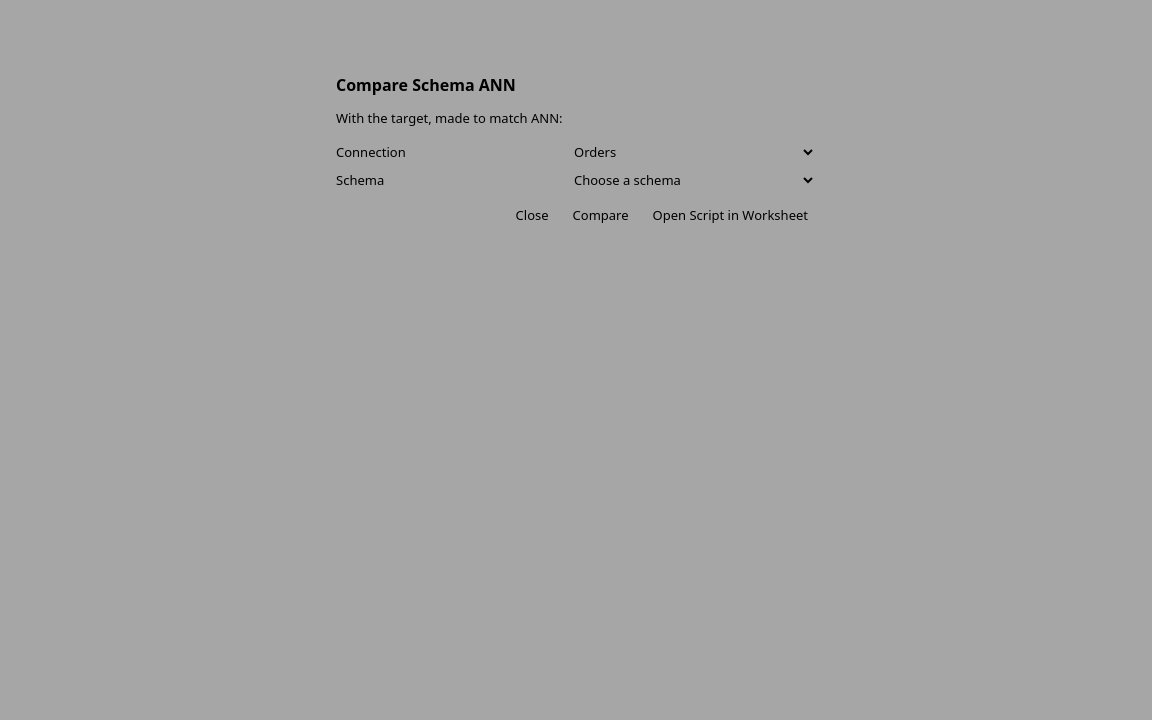
it: two schemas compared › says why two schemas could not be compared [DESIGN] D47
Select "BOB" in the dropdown labelled "Schema" at (690, 180), box [564,168,816,192]
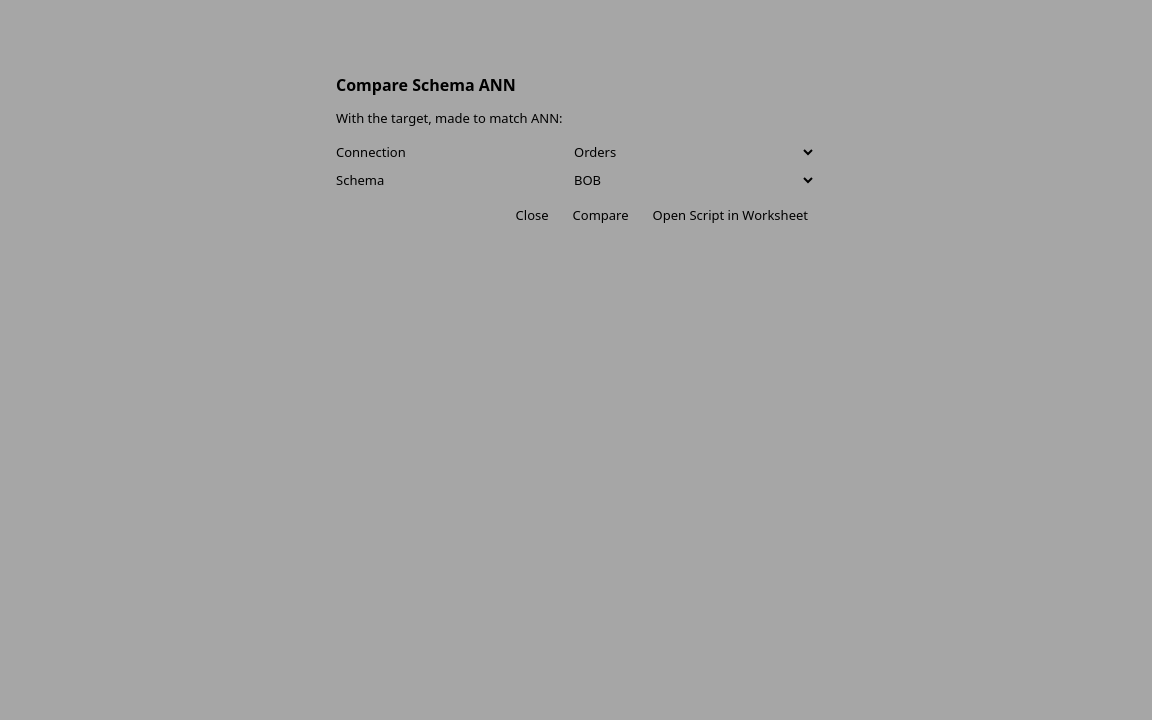
Click the button "Compare" at (601, 215), box [565,204,637,226]
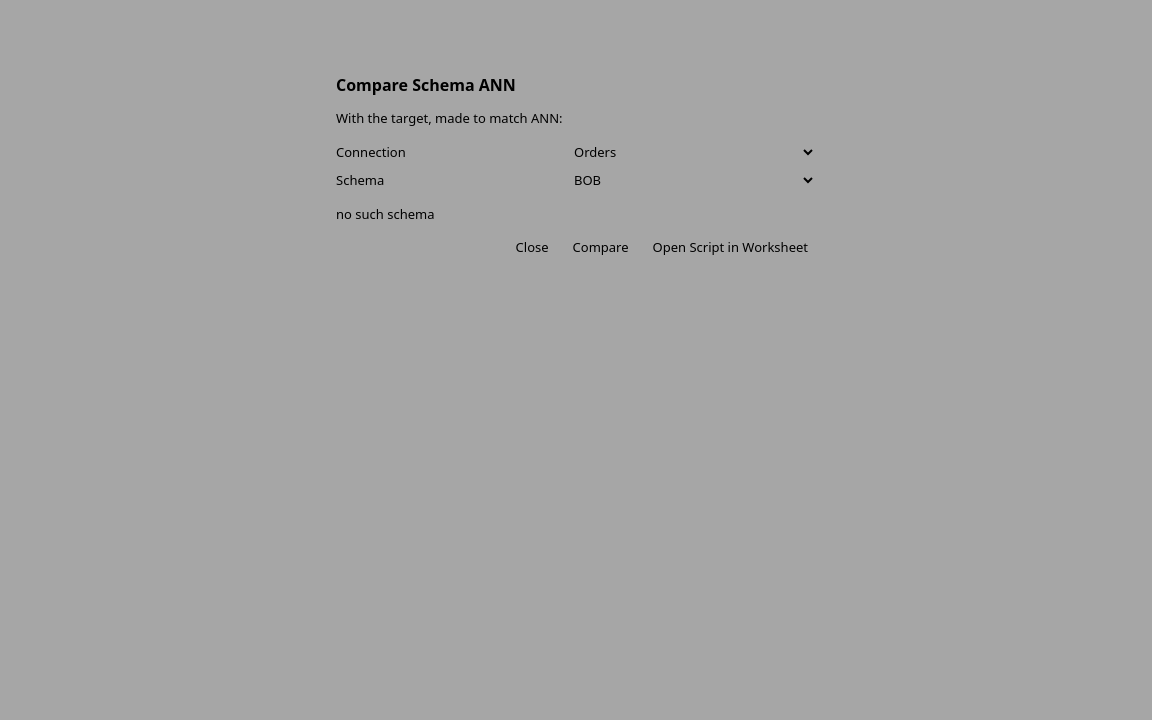
Result: the text "no such schema" is shown at [336,205,434,223]
